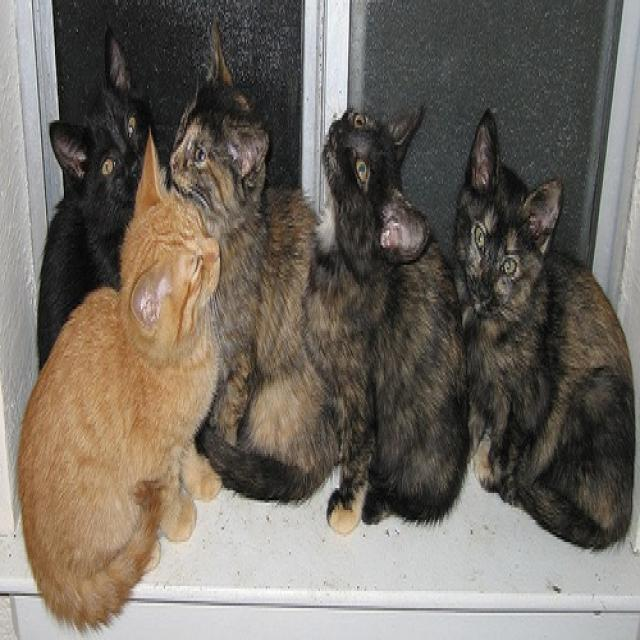cat: (15, 132, 222, 630), (450, 106, 635, 554), (170, 17, 340, 503), (320, 103, 472, 535), (34, 25, 158, 370)
